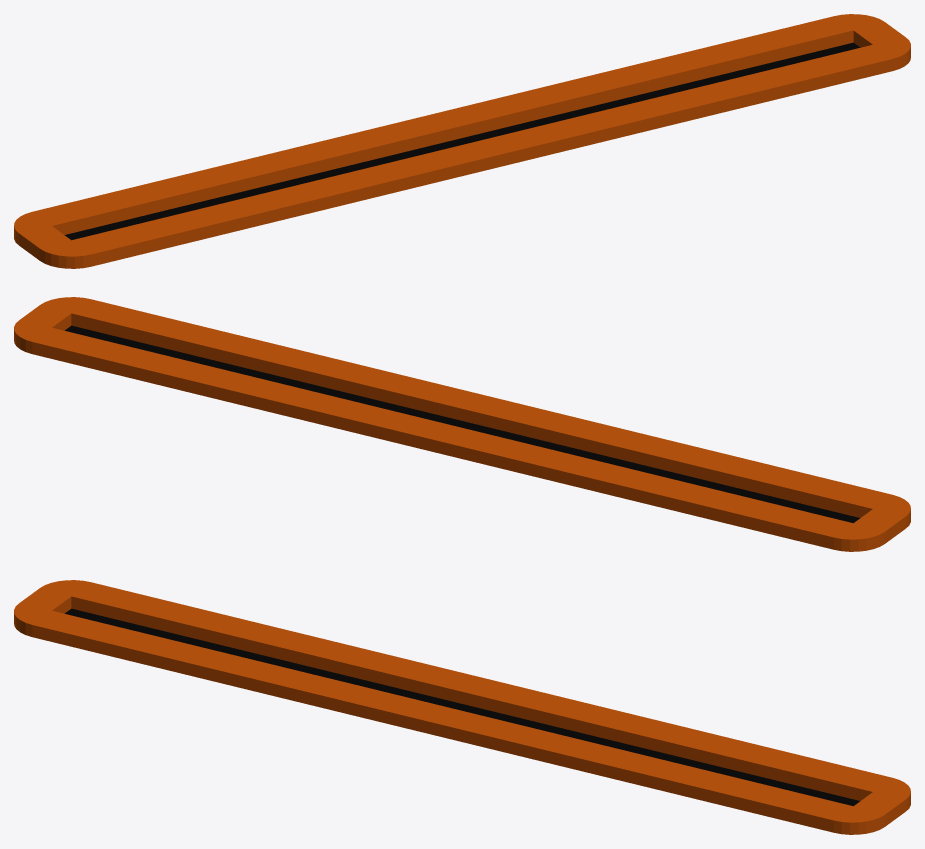
File: trapHinge.fbx
3 views of the same model, one above another, from view 1: azimuth 30°, elevation 25°; view 2: azimuth 150°, elevation 25°; view 3: azimuth 330°, elevation 25° (orthographic).
Parts seen in each view (by area): view 1: Cube, Cube.001; view 2: Cube, Cube.001; view 3: Cube, Cube.001.
Part boxes in pixels (bbox=[...]): Cube: bbox=[14, 14, 910, 268]; Cube.001: bbox=[64, 42, 860, 240]; Cube: bbox=[14, 297, 910, 551]; Cube.001: bbox=[64, 325, 860, 523]; Cube: bbox=[14, 580, 910, 834]; Cube.001: bbox=[64, 608, 860, 806].
Bounding box in the file's own units: 1710 × 23.19 × 200.
